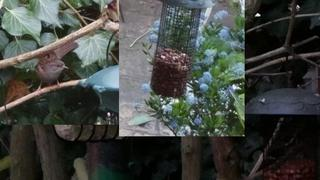dunnock: (35, 40, 79, 96)
